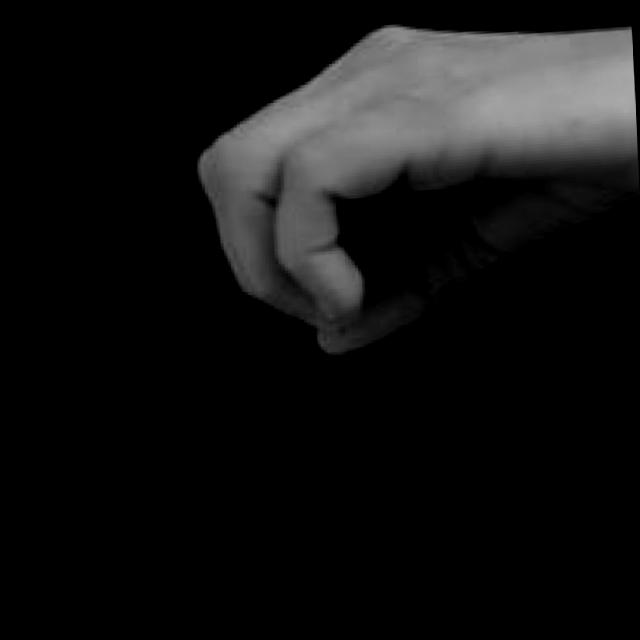O: (178, 0, 616, 389)
